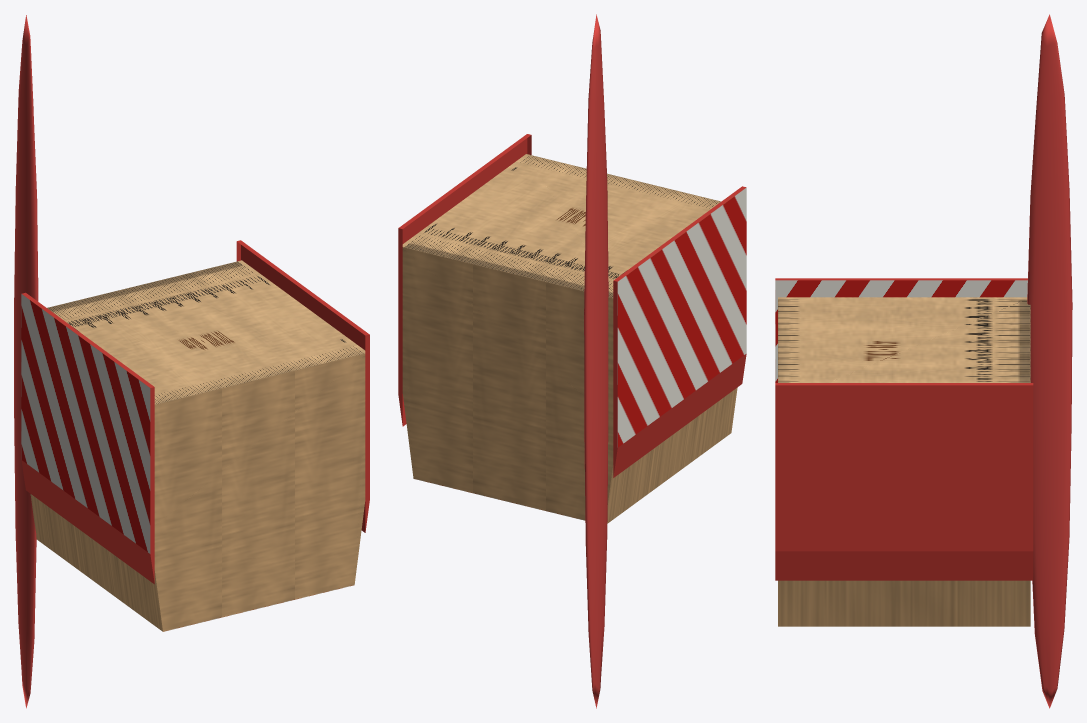
File: kinder_lineal.glb
3 views of the same model, side by side, from view 1: azimuth 30°, elevation 25°; view 2: azimuth 150°, elevation 25°; view 3: azimuth 270°, elevation 25° (orthographic).
Parts seen in each view (by area): view 1: kinder_lineal; view 2: kinder_lineal; view 3: kinder_lineal.
Part boxes in pixels (x1=…): kinder_lineal: x1=14, y1=15, x2=369, y2=708; kinder_lineal: x1=398, y1=14, x2=746, y2=708; kinder_lineal: x1=775, y1=14, x2=1072, y2=708.
Bounding box in the file's own units: 1 × 3.03 × 1.18.
4 materials, 2 textured.
